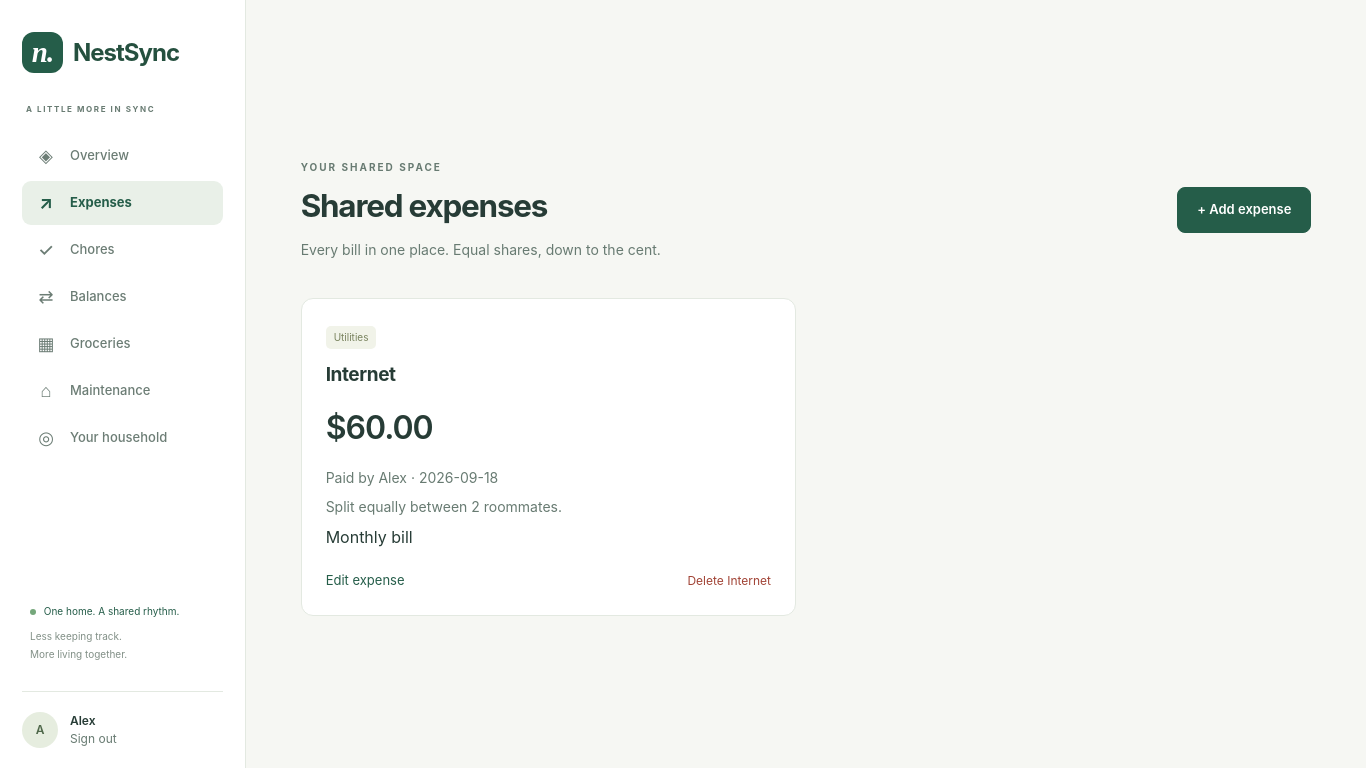
it: surfaces failed expense deletions
The width and height of the screenshot is (1366, 768).
Click the button "Delete Internet" at coordinates (729, 581), box [687,572,771,590]
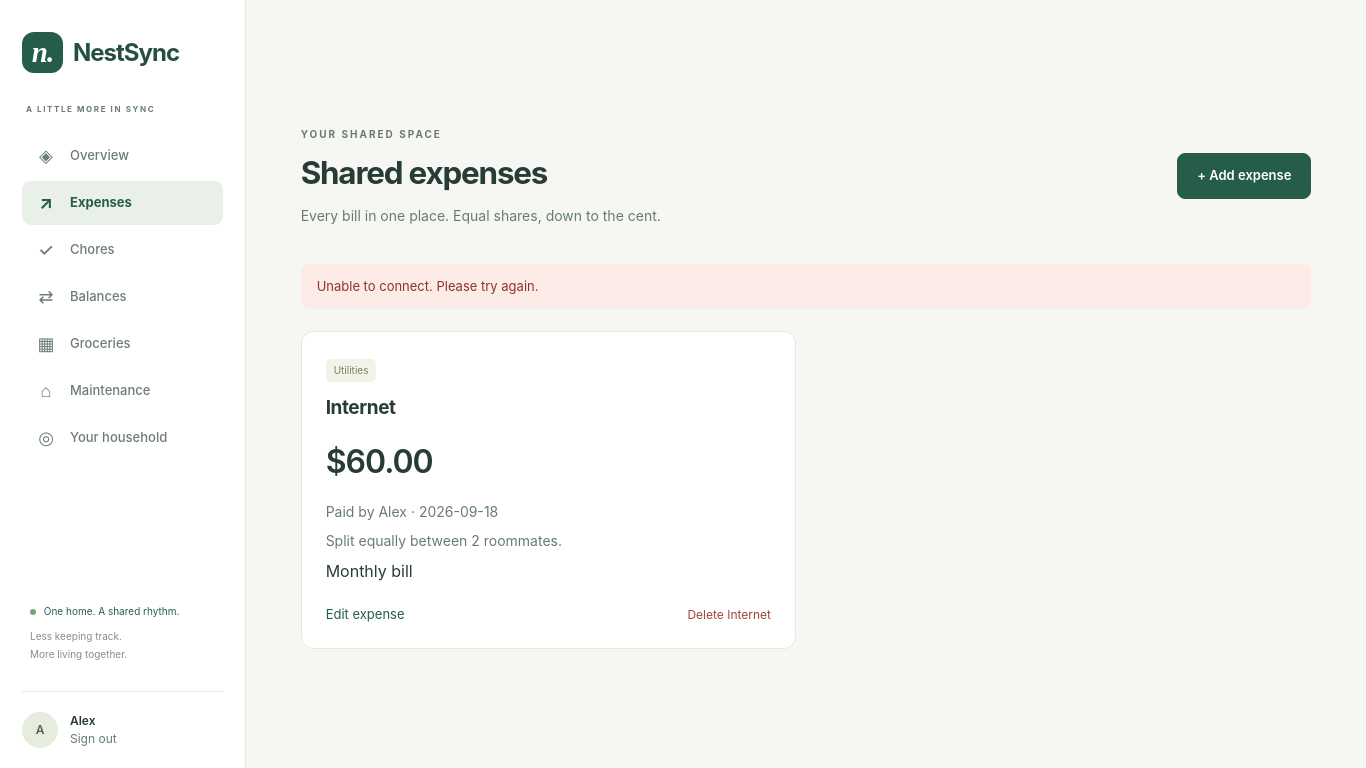
Check: the message "Unable to connect. Please try again." is shown, box [301,264,1311,309]
